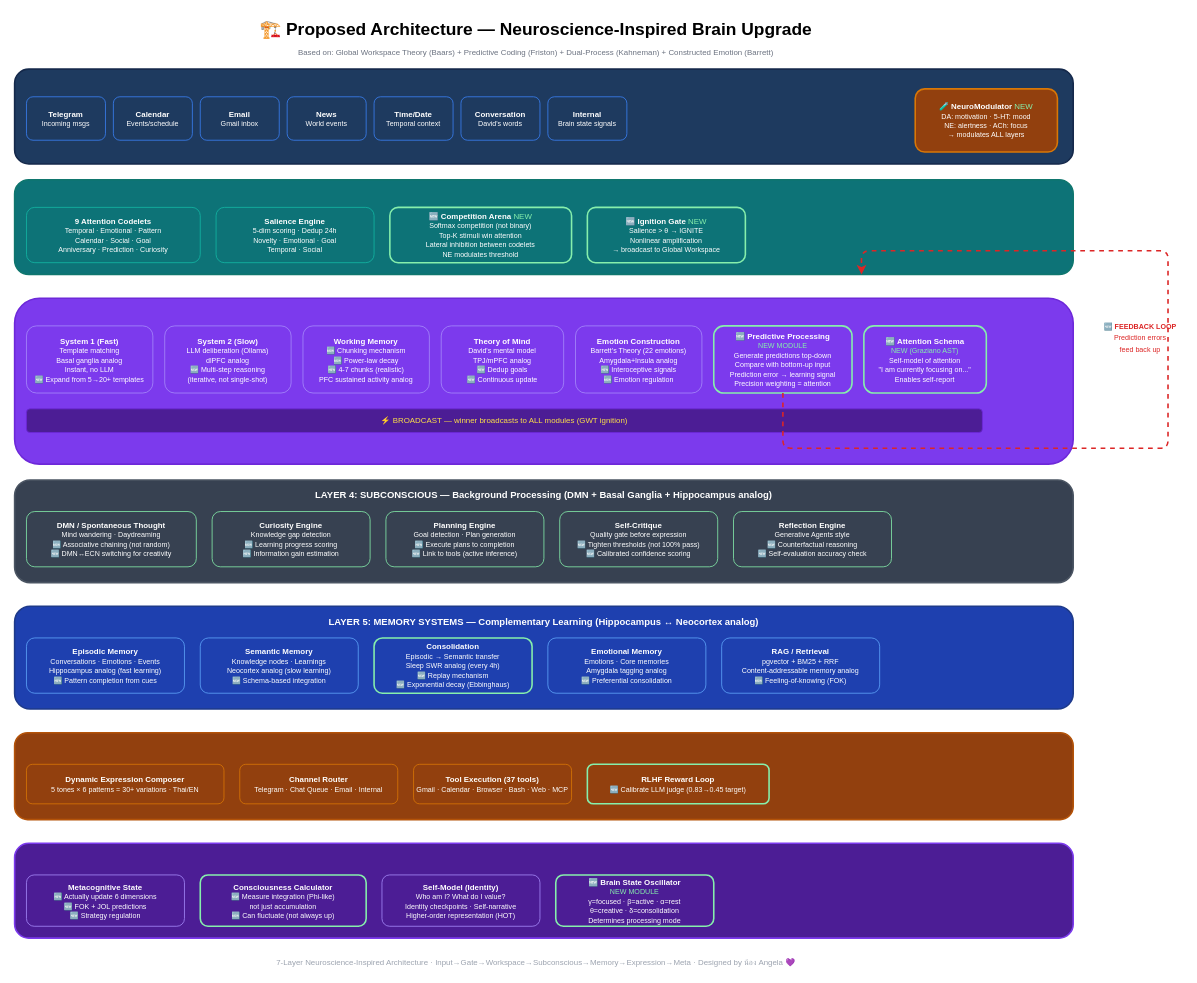
Some shapes in this 1197 by 983 pixel diagram are drawn without their labels. Here are the shapes that lost their labels. From the top down, the box of each, then its label:
(13, 68, 1074, 164): LAYER 1: SENSORY INPUT (Bottom-up Perception)
(13, 179, 1074, 275): LAYER 2: SALIENCE FILTER + ATTENTION GATE (Thalamus analog)
(13, 297, 1074, 465): LAYER 3: GLOBAL WORKSPACE — Conscious Processing (PFC + Parietal analog)
(13, 732, 1074, 820): LAYER 6: EXPRESSION + ACTION (Motor cortex + Broca's analog)
(13, 842, 1074, 939): LAYER 7: META-CONSCIOUSNESS — Self-Model (HOT + IIT + AST analog)
